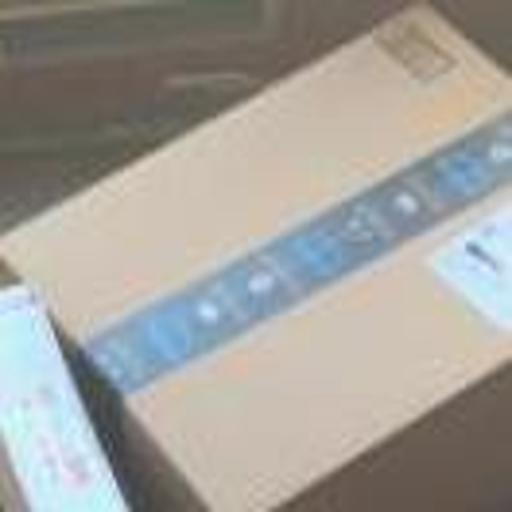Amazon: (96, 27, 512, 490)
Other: (0, 304, 123, 512)
